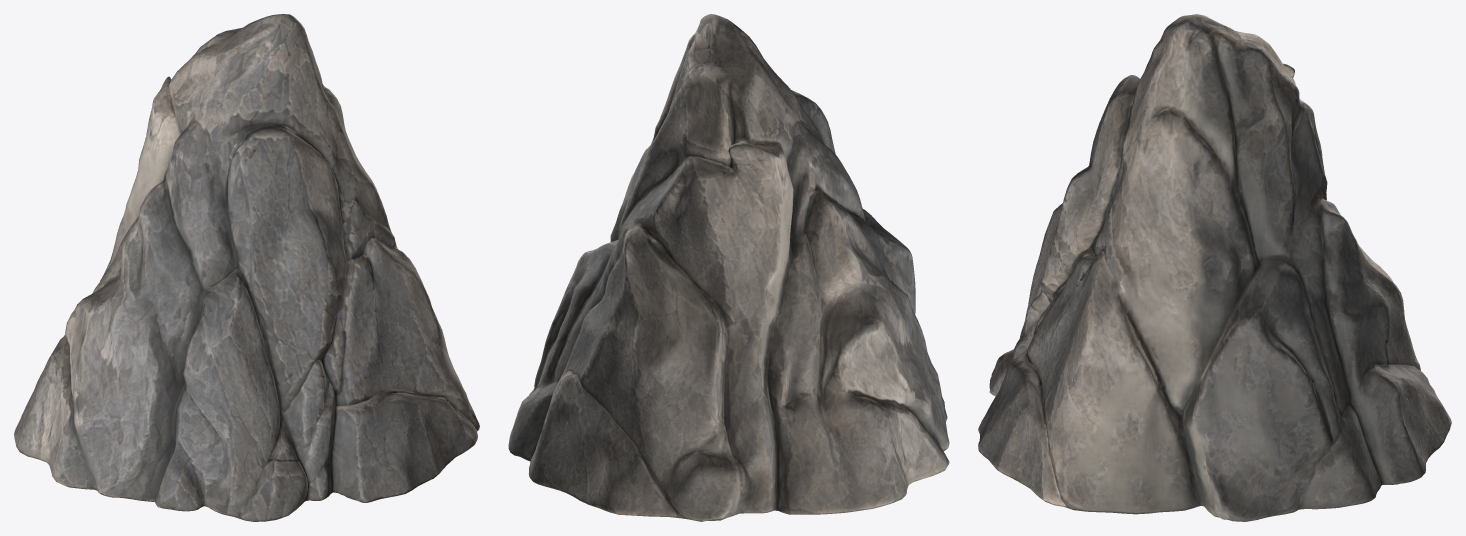
The model's file is Rock1.fbx.
The picture shows the model from 3 angles, left to right: view 1: azimuth 30°, elevation 25°; view 2: azimuth 150°, elevation 25°; view 3: azimuth 270°, elevation 25°; orthographic projection. The views are drawn at different scales.
Visible parts, largest first — view 1: tripo_node_ea7ff174; view 2: tripo_node_ea7ff174; view 3: tripo_node_ea7ff174.
Boxes of the visible parts, x1,y1,x2,y2 form: tripo_node_ea7ff174: [14, 14, 479, 521]; tripo_node_ea7ff174: [508, 14, 949, 521]; tripo_node_ea7ff174: [978, 14, 1451, 521].
Size of the model in its own units: 99.52 by 100 by 99.15.
